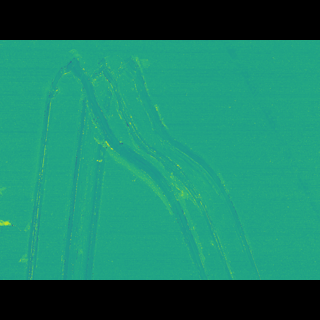Loch: (20, 77, 262, 251), (217, 69, 320, 212)
